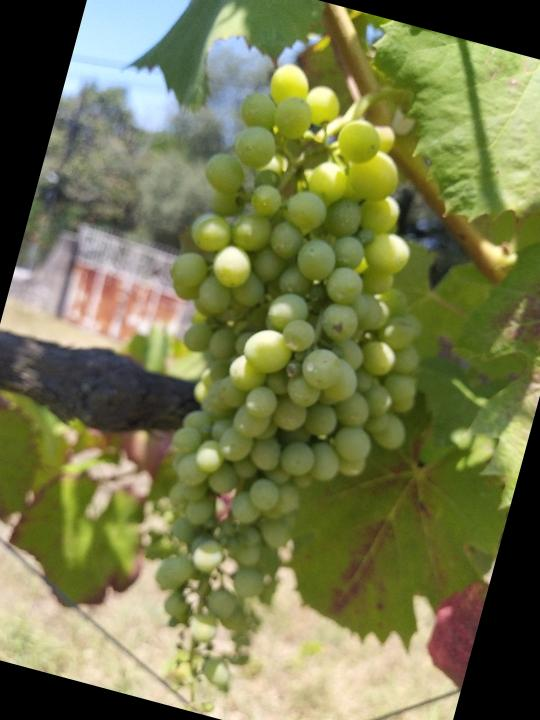grape: (65, 46, 494, 720)
